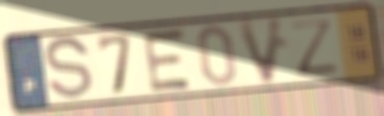0: (194, 23, 239, 89)
7: (96, 32, 136, 97)
E: (141, 26, 195, 95)
S: (43, 33, 95, 104)
V: (234, 14, 288, 88)
Z: (286, 17, 342, 78)
